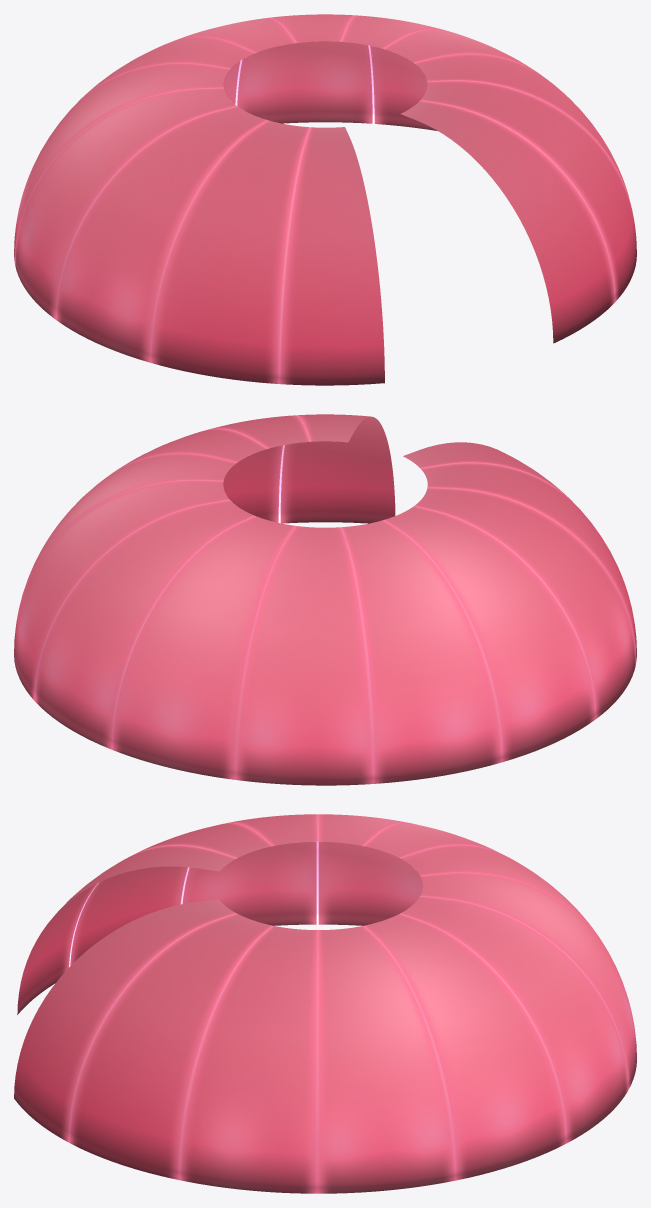
Rendered from Wall_BakedTest1.glb.
3 views of the same model, one above another, from view 1: azimuth 30°, elevation 25°; view 2: azimuth 150°, elevation 25°; view 3: azimuth 270°, elevation 25° (orthographic). The views are drawn at different scales.
Parts seen in each view (by area): view 1: Wall; view 2: Wall; view 3: Wall.
Boxes of the visible parts, x1,y1,x2,y2 form: Wall: (14, 14, 636, 385); Wall: (14, 414, 636, 785); Wall: (14, 814, 636, 1193).
Bounding box in the file's own units: 50 × 15 × 48.9.
2 materials, 1 textured.
